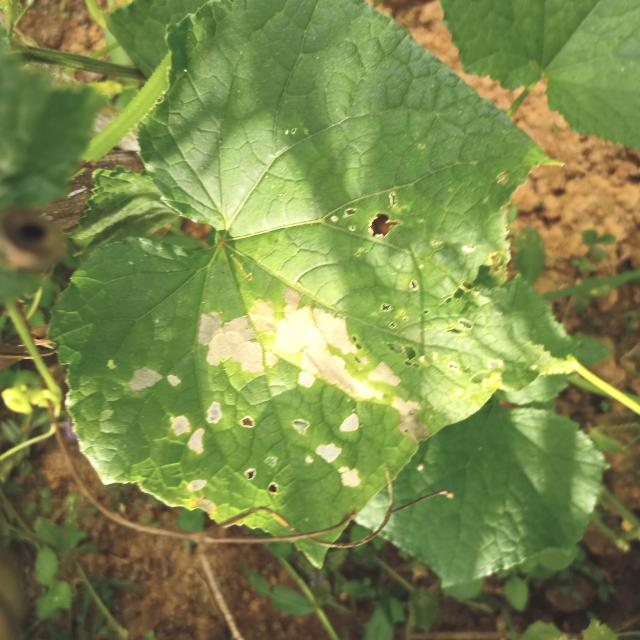disease_cucumber: (126, 283, 433, 498)
